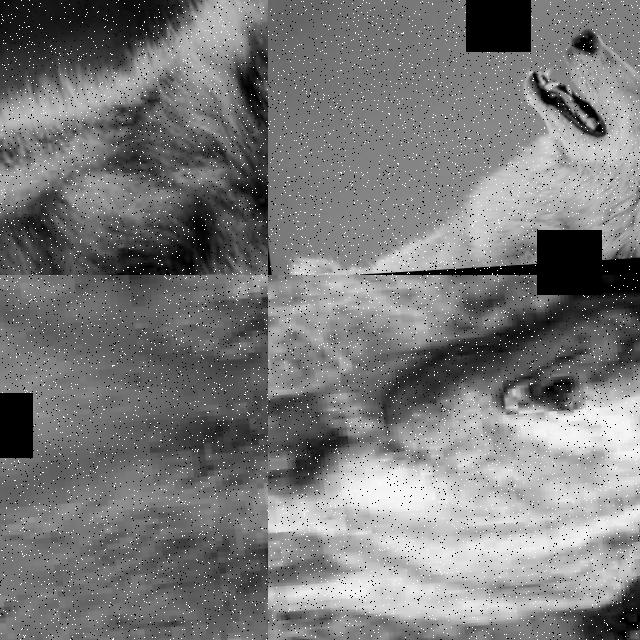wolf: (268, 303, 640, 640), (0, 275, 268, 640), (0, 0, 268, 275), (361, 4, 640, 248), (268, 112, 640, 275)
